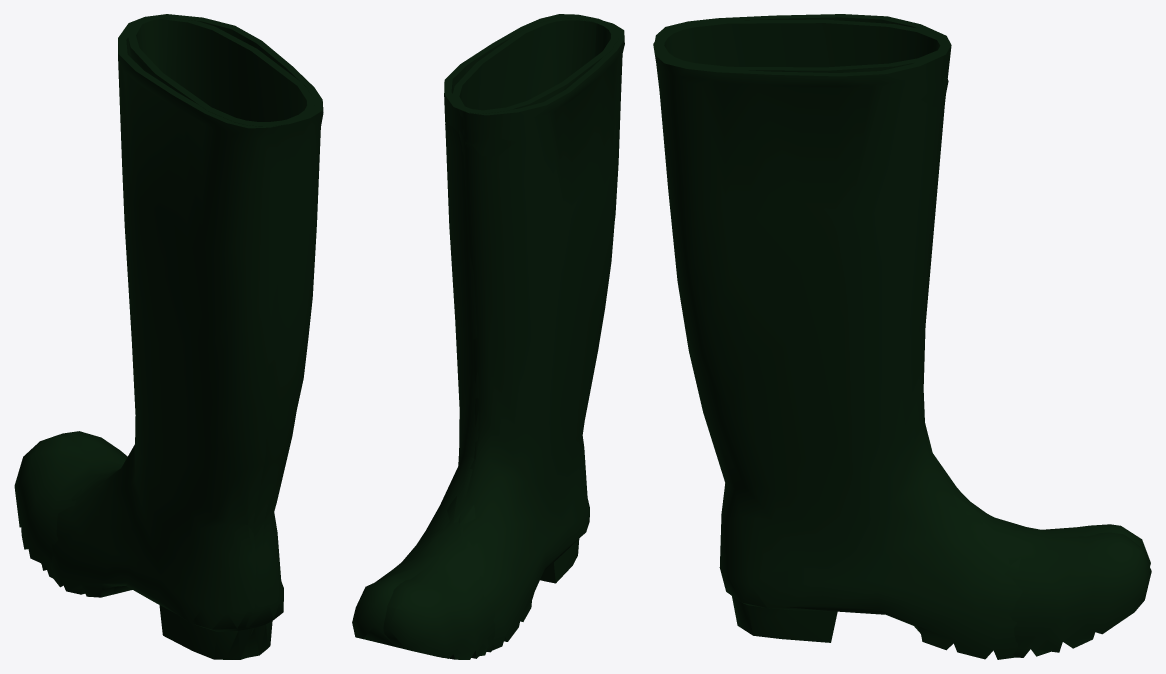
Rendered from Sepatu_boot_karet.fbx.
3 views of the same model, side by side, from view 1: azimuth 30°, elevation 25°; view 2: azimuth 150°, elevation 25°; view 3: azimuth 270°, elevation 25° (orthographic). The views are drawn at different scales.
Parts seen in each view (by area): view 1: sepatu_rubber_boot:left, sepatu_rubber_boot:right; view 2: sepatu_rubber_boot:left, sepatu_rubber_boot:right; view 3: sepatu_rubber_boot:right, sepatu_rubber_boot:left.
Part boxes in pixels (x1,y1,x2,y2): sepatu_rubber_boot:left: (41, 16, 314, 659); sepatu_rubber_boot:right: (14, 14, 323, 657); sepatu_rubber_boot:left: (352, 18, 624, 657); sepatu_rubber_boot:right: (383, 14, 619, 659); sepatu_rubber_boot:right: (653, 19, 1150, 659); sepatu_rubber_boot:left: (655, 14, 1151, 657).
Bounding box in the file's own units: 10.12 × 43.51 × 33.64.
